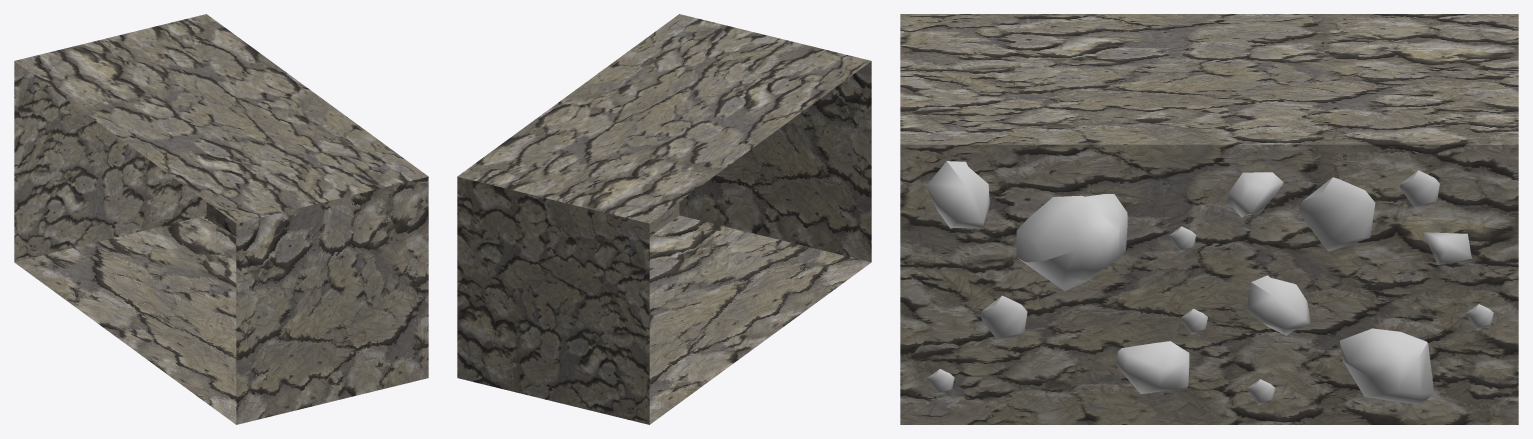
Rendered from cube_normal.fbx.
The picture shows the model from 3 angles, left to right: view 1: azimuth 30°, elevation 25°; view 2: azimuth 150°, elevation 25°; view 3: azimuth 270°, elevation 25°; orthographic projection. The views are drawn at different scales.
Visible parts, largest first — view 1: cube_normal.001; view 2: cube_normal.001; view 3: cube_normal.001.
Part boxes in pixels (x1,y1,x2,y2): cube_normal.001: (14,14,428,424); cube_normal.001: (457,14,871,424); cube_normal.001: (900,14,1518,424).
Size of the model in its own units: 0.3077 by 0.2702 by 0.5403.
